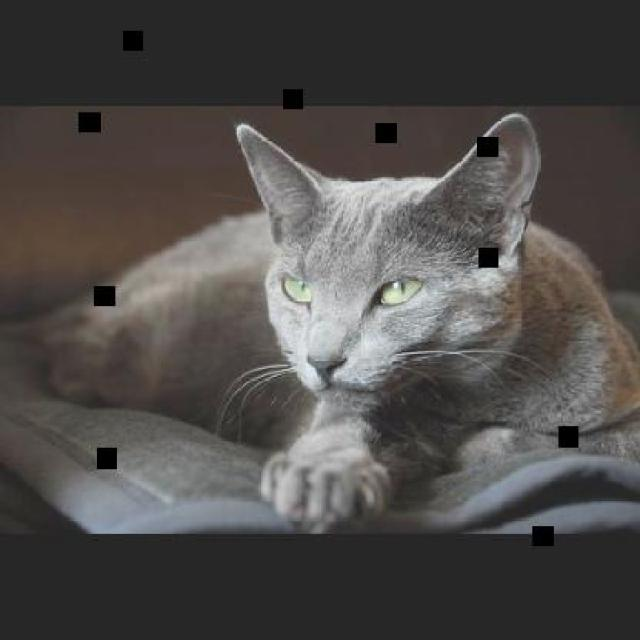unauthorized: (12, 111, 638, 532)
